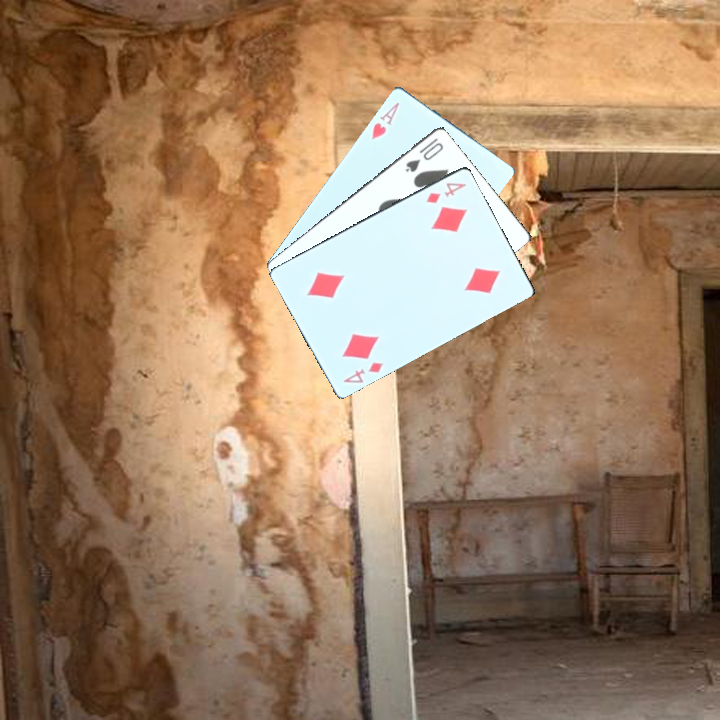10s: (401, 134, 446, 175)
4d: (422, 178, 469, 206), (339, 358, 386, 386)
Ah: (367, 98, 402, 142)
